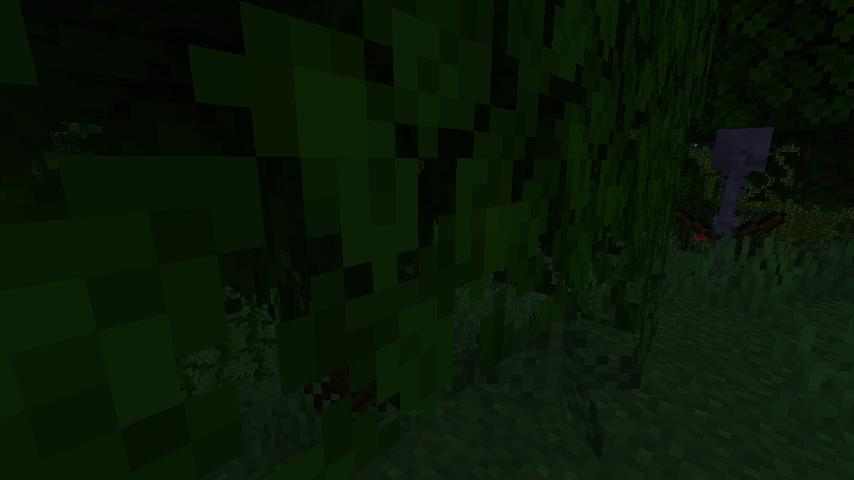skeleton: (677, 125, 785, 285)
